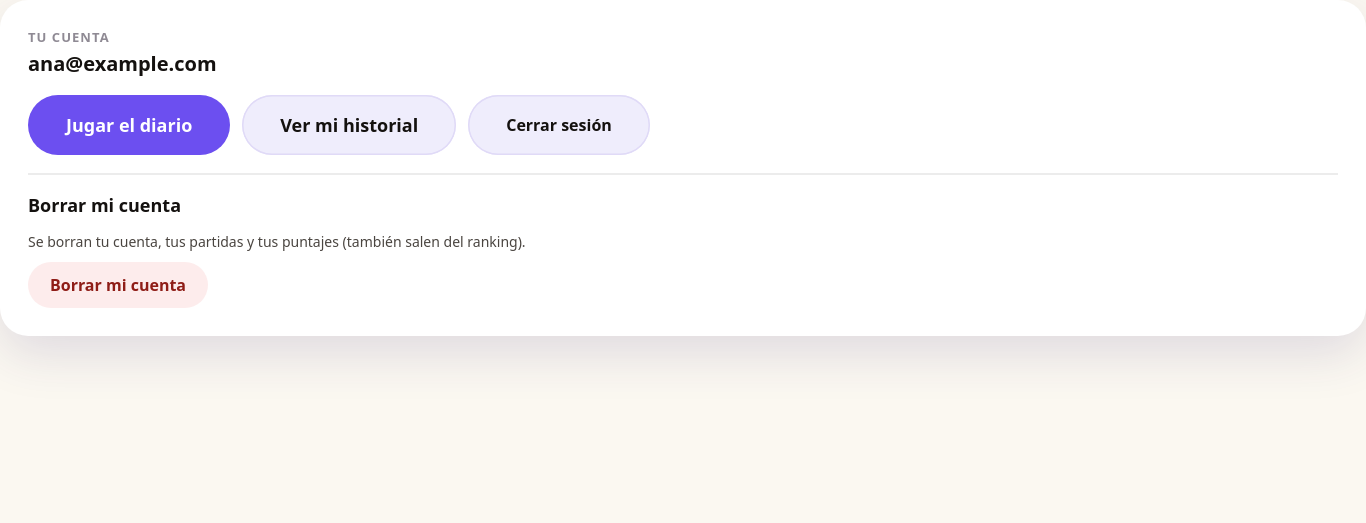
Scenario: PanelCuenta › borrar la cuenta › se puede arrepentir
The width and height of the screenshot is (1366, 523).
Click the button "Borrar mi cuenta" at (118, 285), box [28,262,208,308]
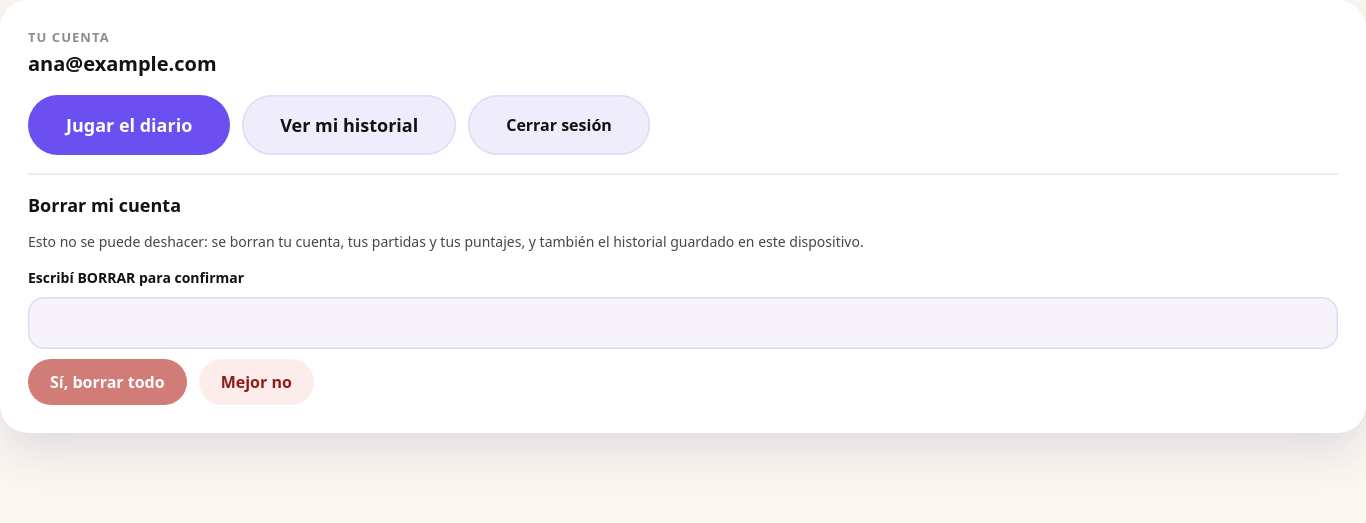
Click the button "Mejor no" at (256, 382), box [199,359,314,405]
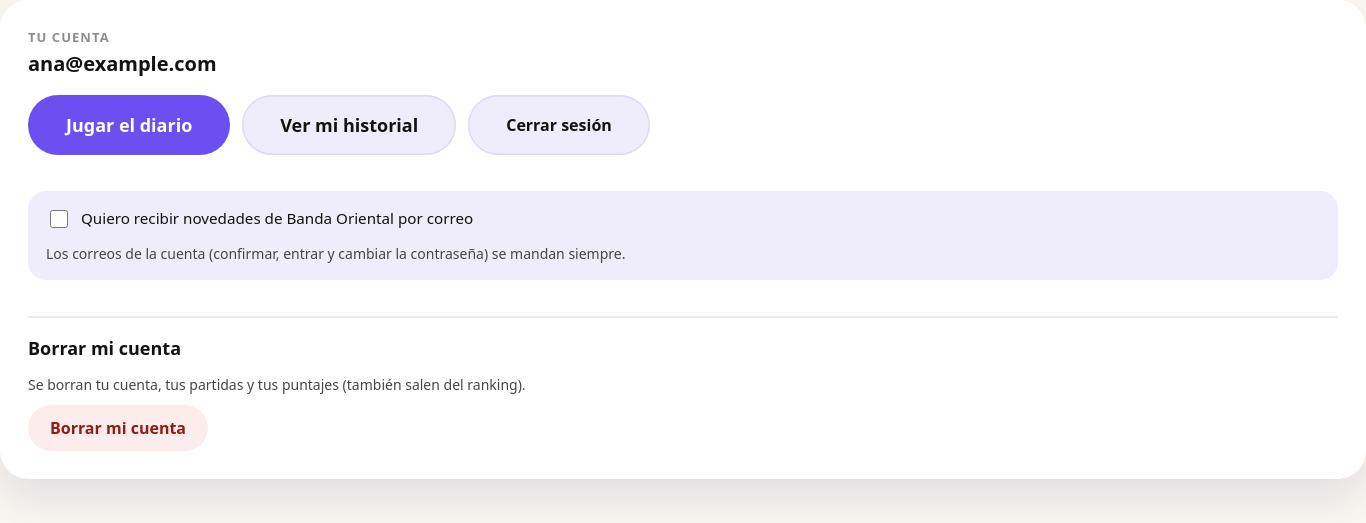
Check: the label labelled "Escribí BORRAR" is gone
